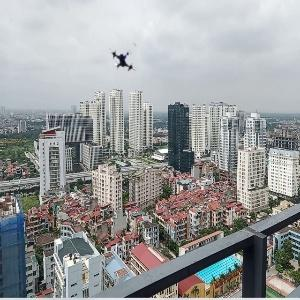drone: (107, 38, 145, 76)
